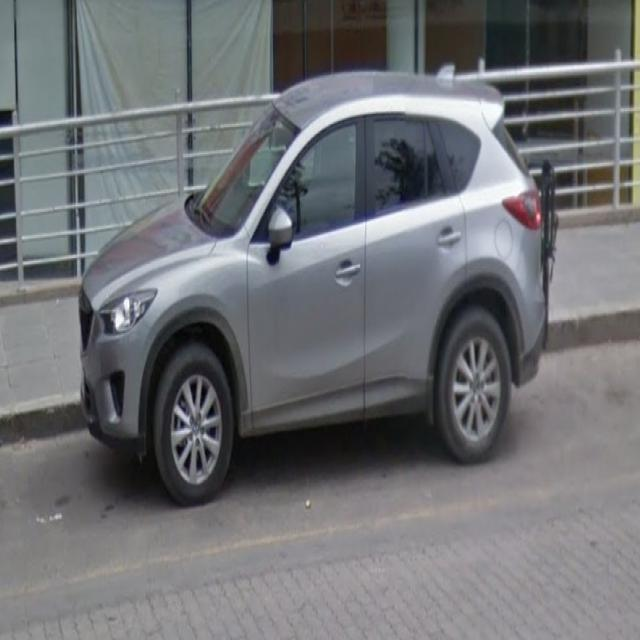Car: (76, 72, 554, 509)
